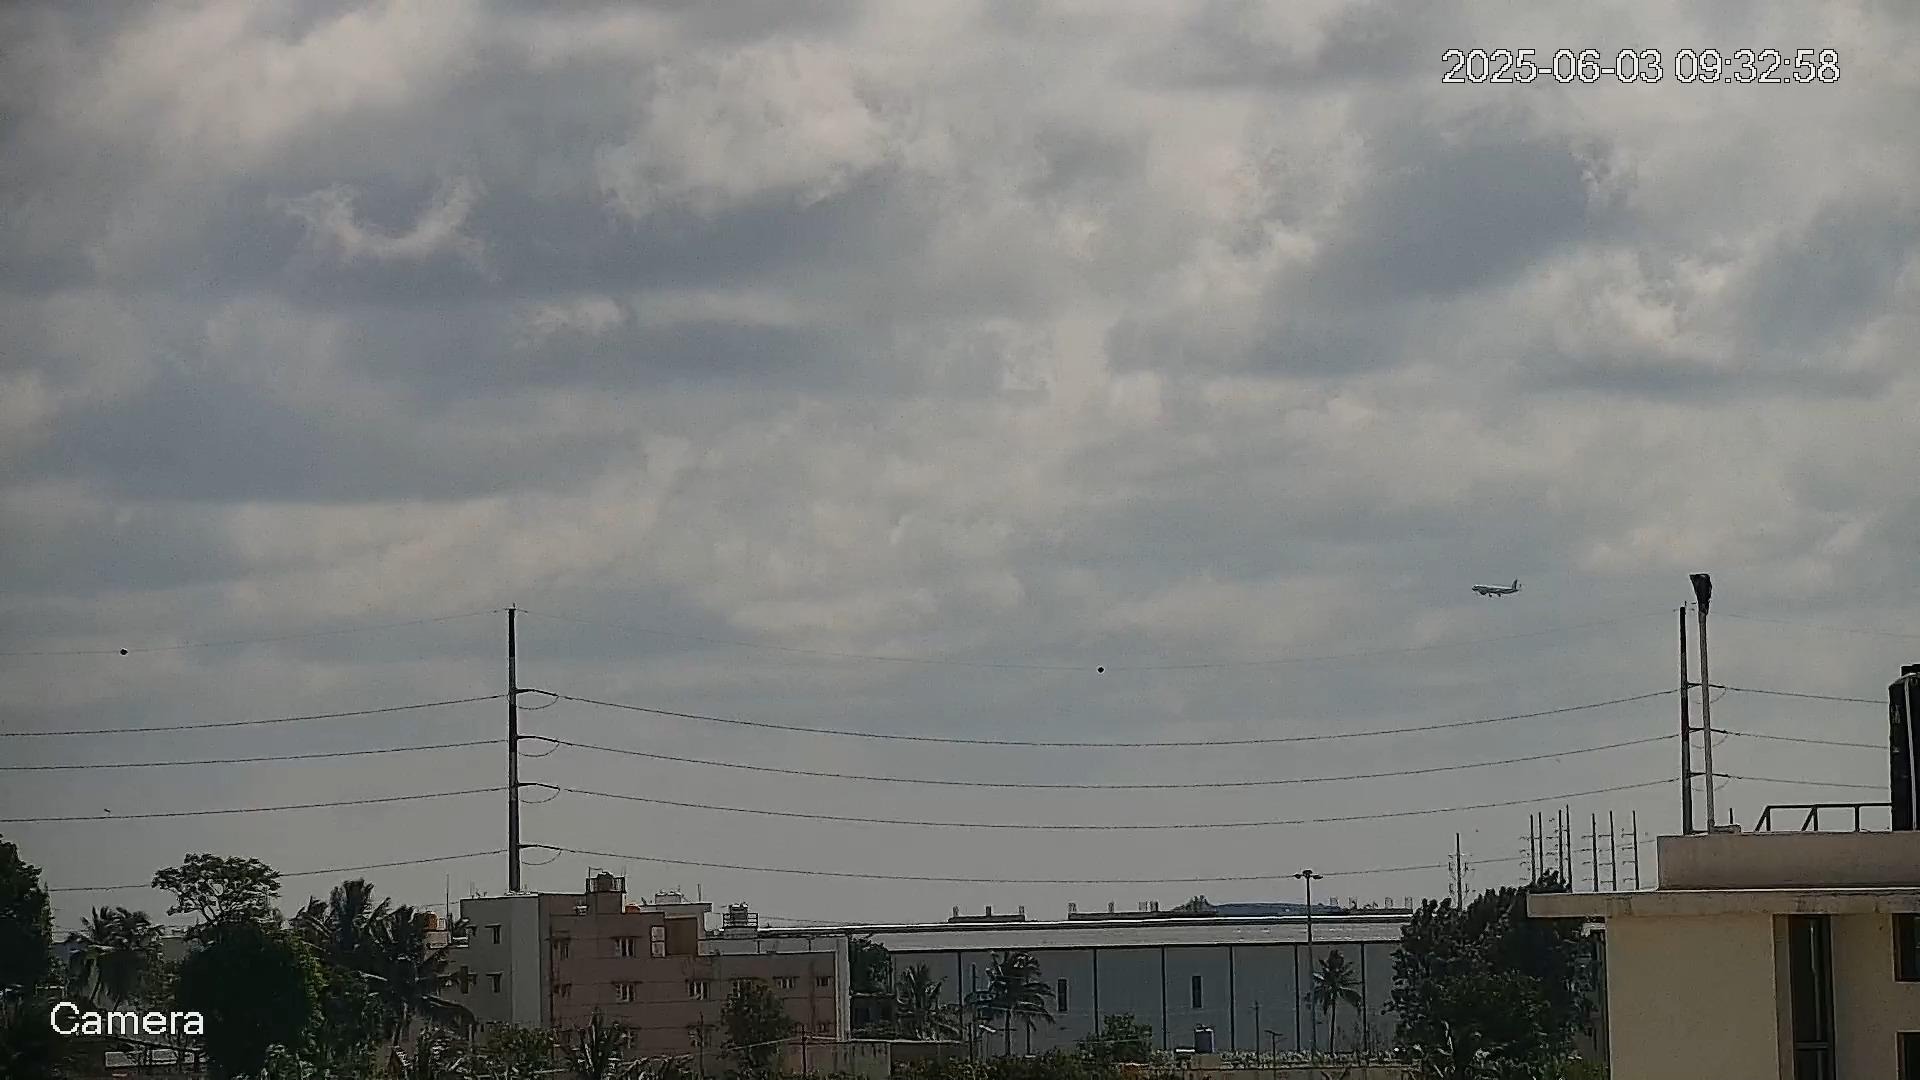Aircraft: (1472, 580, 1522, 599)
